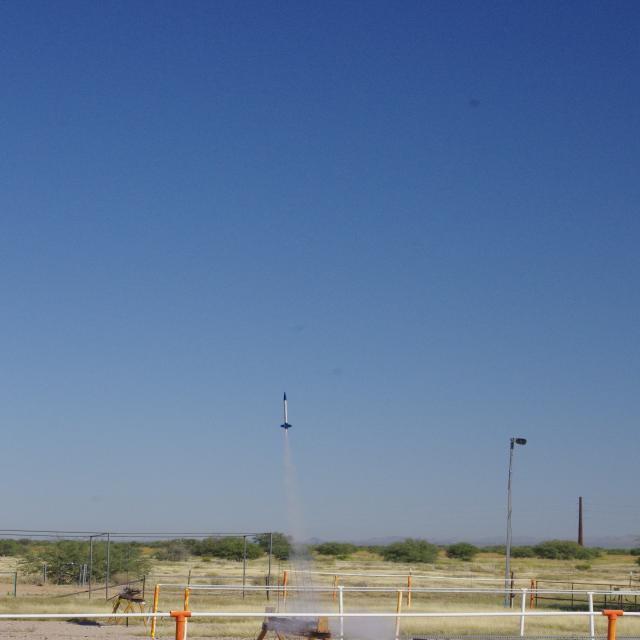Rocket: (280, 392, 292, 429)
